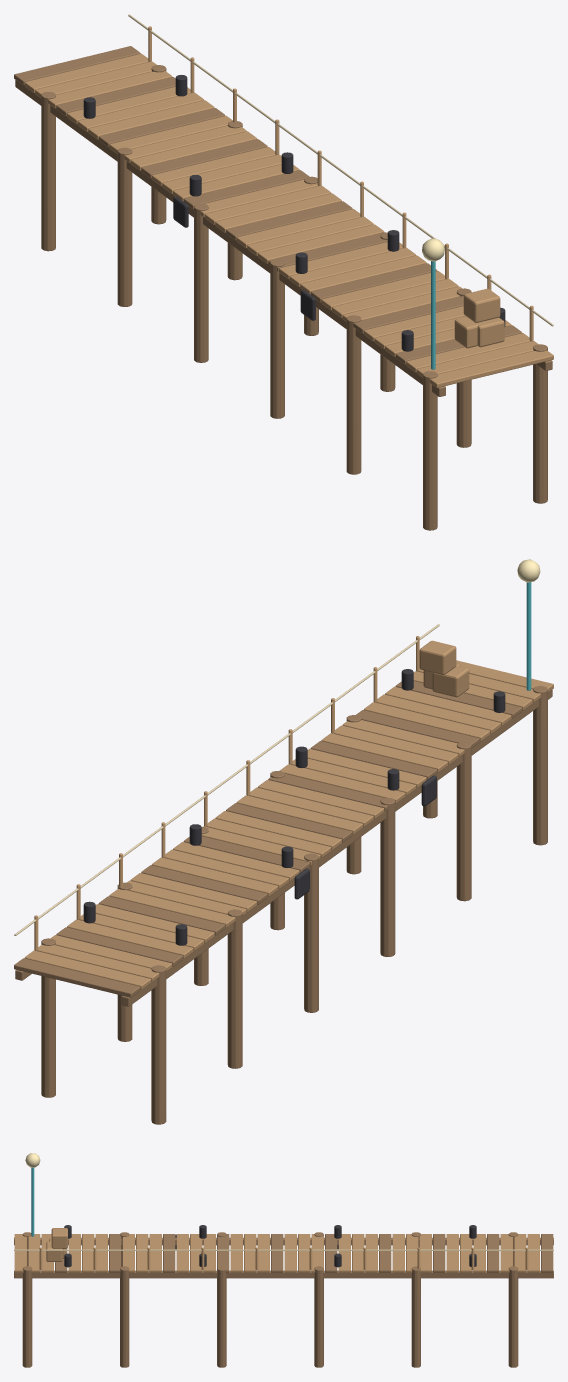
Rendered from pier.fbx.
The picture shows the model from 3 angles, top to bottom: view 1: azimuth 30°, elevation 25°; view 2: azimuth 150°, elevation 25°; view 3: azimuth 270°, elevation 25°; orthographic projection. The views are drawn at different scales.
Parts seen in each view (by area): view 1: Visual; view 2: Visual; view 3: Visual.
Boxes of the visible parts, box(x1,y1,x2,y2) form: Visual: box(14, 14, 553, 530); Visual: box(14, 559, 553, 1124); Visual: box(14, 1153, 553, 1367).
Size of what is drawn, in the model's own units: 338 by 738 by 2000.
